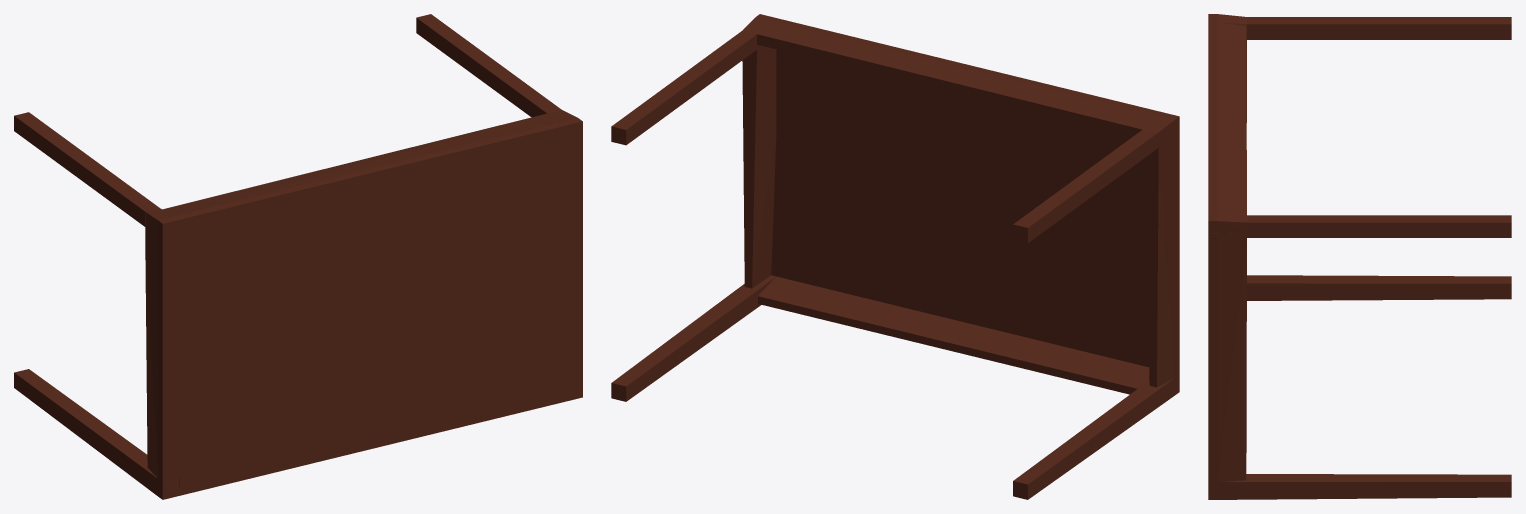
Rendered from JokkmokkTable.obj.
3 renders of one model, left to right at view 1: azimuth 30°, elevation 25°; view 2: azimuth 150°, elevation 25°; view 3: azimuth 270°, elevation 25°, orthographic.
Visible parts, largest first — view 1: JokkmokkTable_hull_8, JokkmokkTable_hull_9, JokkmokkTable_hull_7, JokkmokkTable_hull_4, JokkmokkTable_hull_3, JokkmokkTable_hull_1, JokkmokkTable_hull_2, JokkmokkTable_hull_5; view 2: JokkmokkTable_hull_8, JokkmokkTable_hull_9, JokkmokkTable_hull_4, JokkmokkTable_hull_7, JokkmokkTable_hull_5, JokkmokkTable_hull_3, JokkmokkTable_hull_6, JokkmokkTable_hull_1, JokkmokkTable_hull_2; view 3: JokkmokkTable_hull_5, JokkmokkTable_hull_9, JokkmokkTable_hull_6, JokkmokkTable_hull_3, JokkmokkTable_hull_1, JokkmokkTable_hull_2, JokkmokkTable_hull_7.
Part boxes in pixels (left/top/right/bottom): JokkmokkTable_hull_8: left=174, top=138, right=571, bottom=479; JokkmokkTable_hull_9: left=163, top=110, right=582, bottom=232; JokkmokkTable_hull_7: left=145, top=208, right=179, bottom=481; JokkmokkTable_hull_4: left=179, top=384, right=565, bottom=495; JokkmokkTable_hull_3: left=14, top=369, right=179, bottom=499; JokkmokkTable_hull_1: left=14, top=112, right=159, bottom=226; JokkmokkTable_hull_2: left=416, top=14, right=561, bottom=117; JokkmokkTable_hull_5: left=566, top=134, right=582, bottom=382; JokkmokkTable_hull_8: left=771, top=49, right=1148, bottom=367; JokkmokkTable_hull_9: left=742, top=14, right=1162, bottom=135; JokkmokkTable_hull_4: left=758, top=276, right=1149, bottom=394; JokkmokkTable_hull_7: left=1144, top=112, right=1179, bottom=387; JokkmokkTable_hull_5: left=742, top=44, right=776, bottom=288; JokkmokkTable_hull_3: left=1013, top=374, right=1179, bottom=499; JokkmokkTable_hull_6: left=611, top=275, right=776, bottom=401; JokkmokkTable_hull_1: left=1013, top=128, right=1158, bottom=243; JokkmokkTable_hull_2: left=611, top=30, right=756, bottom=145; JokkmokkTable_hull_5: left=1208, top=233, right=1246, bottom=481; JokkmokkTable_hull_9: left=1208, top=22, right=1246, bottom=233; JokkmokkTable_hull_6: left=1208, top=474, right=1511, bottom=499; JokkmokkTable_hull_3: left=1247, top=275, right=1511, bottom=300; JokkmokkTable_hull_1: left=1247, top=17, right=1511, bottom=39; JokkmokkTable_hull_2: left=1247, top=215, right=1511, bottom=237; JokkmokkTable_hull_7: left=1208, top=14, right=1246, bottom=122.
Bounding box in the file's own units: 1.28 × 0.8035 × 0.7922.
